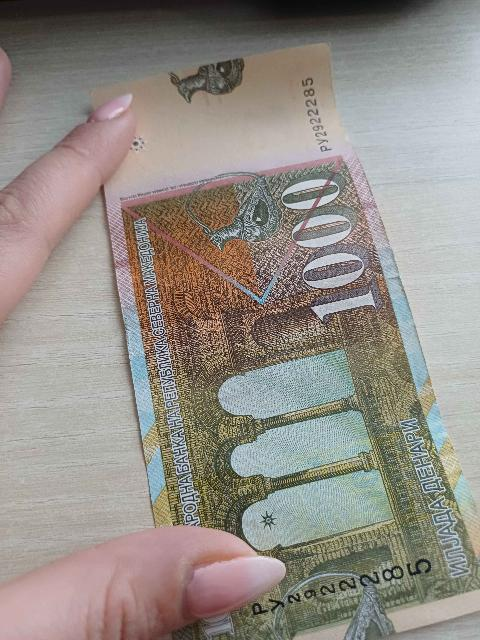note: (106, 46, 479, 639)
